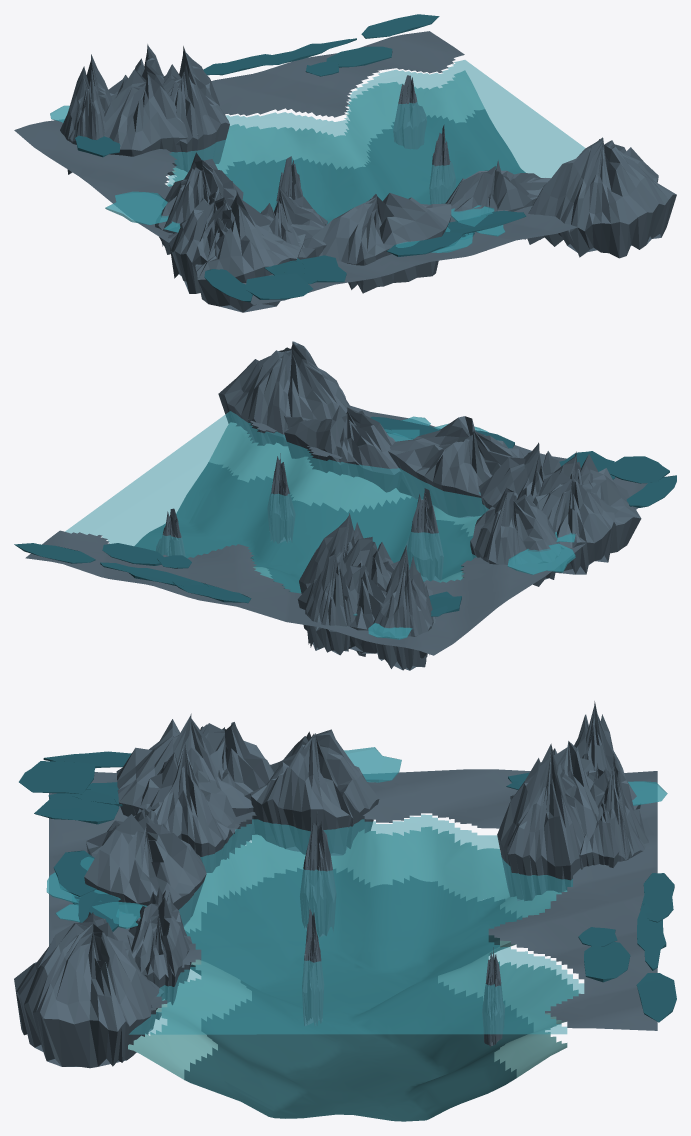
The model's file is water_tile_02.glb.
3 views of the same model, one above another, from view 1: azimuth 30°, elevation 25°; view 2: azimuth 150°, elevation 25°; view 3: azimuth 270°, elevation 25° (orthographic). The views are drawn at different scales.
Parts seen in each view (by area): view 1: glacial water surface 02, single continuous dark slate shoreline.002, submerged mineral riverbed.002, angular fractured shoreline ledge.032, visible shallow mineral shelves.002, angular fractured shoreline ledge.033, angular fractured shoreline ledge.037, angular fractured shoreline ledge.030, angular fractured shoreline ledge.028, angular fractured shoreline ledge.034, angular fractured shoreline ledge.039, angular fractured shoreline ledge.038 (+18 smaller); view 2: glacial water surface 02, single continuous dark slate shoreline.002, submerged mineral riverbed.002, angular fractured shoreline ledge.032, angular fractured shoreline ledge.033, visible shallow mineral shelves.002, angular fractured shoreline ledge.034, angular fractured shoreline ledge.039, angular fractured shoreline ledge.038, angular fractured shoreline ledge.036, angular fractured shoreline ledge.029, angular fractured shoreline ledge.037 (+18 smaller); view 3: glacial water surface 02, submerged mineral riverbed.002, single continuous dark slate shoreline.002, visible shallow mineral shelves.002, angular fractured shoreline ledge.032, angular fractured shoreline ledge.038, angular fractured shoreline ledge.028, angular fractured shoreline ledge.033, angular fractured shoreline ledge.035, angular fractured shoreline ledge.037, angular fractured shoreline ledge.034, angular fractured shoreline ledge.039 (+20 smaller).
Part boxes in pixels (x1,y1,x2,y2): glacial water surface 02: (166, 60, 585, 223); single continuous dark slate shoreline.002: (14, 31, 579, 304); submerged mineral riverbed.002: (225, 109, 525, 223); angular fractured shoreline ledge.032: (527, 137, 676, 258); visible shallow mineral shelves.002: (168, 70, 484, 186); angular fractured shoreline ledge.033: (312, 193, 451, 293); angular fractured shoreline ledge.037: (195, 191, 305, 312); angular fractured shoreline ledge.030: (104, 57, 197, 175); angular fractured shoreline ledge.028: (162, 46, 229, 175); angular fractured shoreline ledge.034: (445, 160, 550, 239); angular fractured shoreline ledge.039: (168, 187, 234, 293); angular fractured shoreline ledge.038: (155, 152, 243, 254); glacial water surface 02: (65, 411, 488, 593); single continuous dark slate shoreline.002: (25, 405, 647, 655); submerged mineral riverbed.002: (135, 462, 472, 593); angular fractured shoreline ledge.032: (218, 341, 350, 446); angular fractured shoreline ledge.033: (388, 416, 525, 517); visible shallow mineral shelves.002: (209, 422, 481, 582); angular fractured shoreline ledge.034: (283, 405, 401, 492); angular fractured shoreline ledge.039: (533, 466, 615, 574); angular fractured shoreline ledge.038: (470, 488, 561, 586); angular fractured shoreline ledge.036: (373, 545, 433, 670); angular fractured shoreline ledge.029: (305, 546, 365, 656); angular fractured shoreline ledge.037: (532, 451, 641, 553); glacial water surface 02: (129, 814, 584, 1034); submerged mineral riverbed.002: (184, 868, 533, 1121); single continuous dark slate shoreline.002: (49, 769, 657, 1030); visible shallow mineral shelves.002: (128, 826, 578, 1079); angular fractured shoreline ledge.032: (14, 912, 164, 1068); angular fractured shoreline ledge.038: (250, 729, 379, 855); angular fractured shoreline ledge.028: (497, 743, 584, 900); angular fractured shoreline ledge.033: (84, 808, 206, 926); angular fractured shoreline ledge.035: (134, 742, 239, 872); angular fractured shoreline ledge.037: (116, 713, 253, 858); angular fractured shoreline ledge.034: (127, 886, 192, 1019); angular fractured shoreline ledge.039: (202, 722, 274, 840).
Size of the model in its own units: 1.09 by 0.3698 by 1.09.
